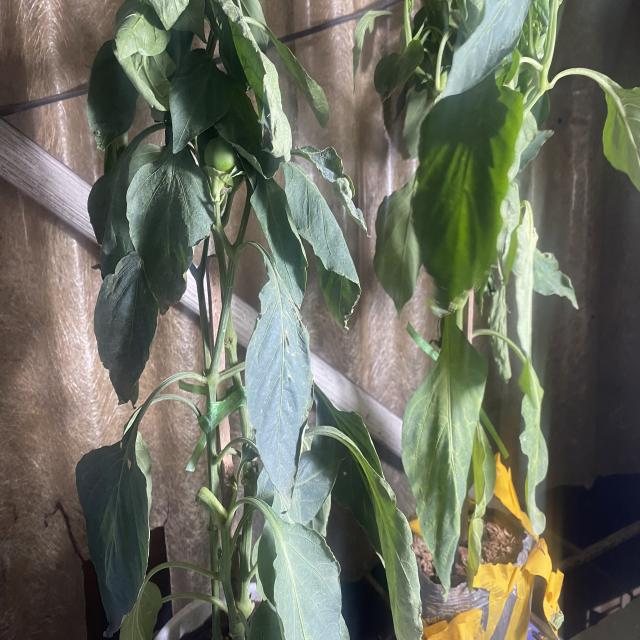Leaf: (411, 85, 522, 316), (402, 325, 489, 602), (245, 278, 314, 515), (74, 444, 150, 639), (126, 147, 213, 316), (284, 160, 362, 332), (93, 247, 159, 406), (272, 525, 349, 640), (168, 46, 233, 155)
